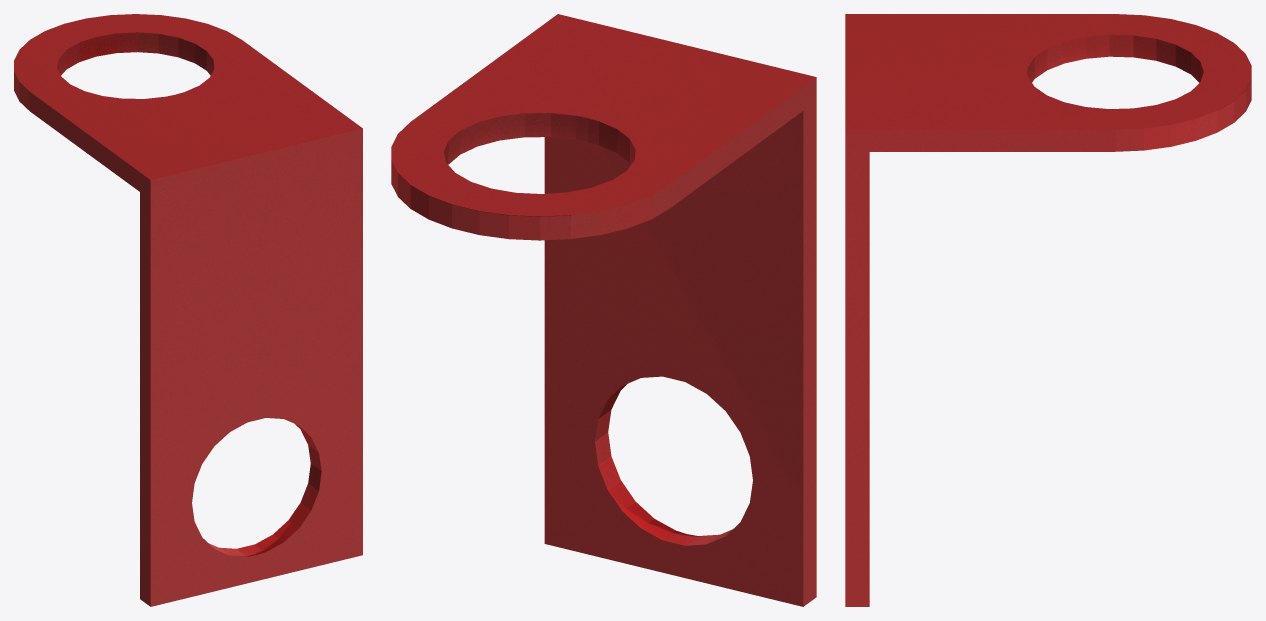
File: mw_frame_v2.dae
3 renders of one model, left to right at view 1: azimuth 30°, elevation 25°; view 2: azimuth 150°, elevation 25°; view 3: azimuth 270°, elevation 25°, orthographic. The views are drawn at different scales.
Parts seen in each view (by area): view 1: mw_frame; view 2: mw_frame; view 3: mw_frame.
Part boxes in pixels (x1,y1,x2,y2): mw_frame: [14, 14, 362, 606]; mw_frame: [391, 14, 816, 606]; mw_frame: [845, 14, 1251, 606].
Size of the model in its own units: 0.09 by 0.1336 by 0.173.
1 material, 1 textured.
